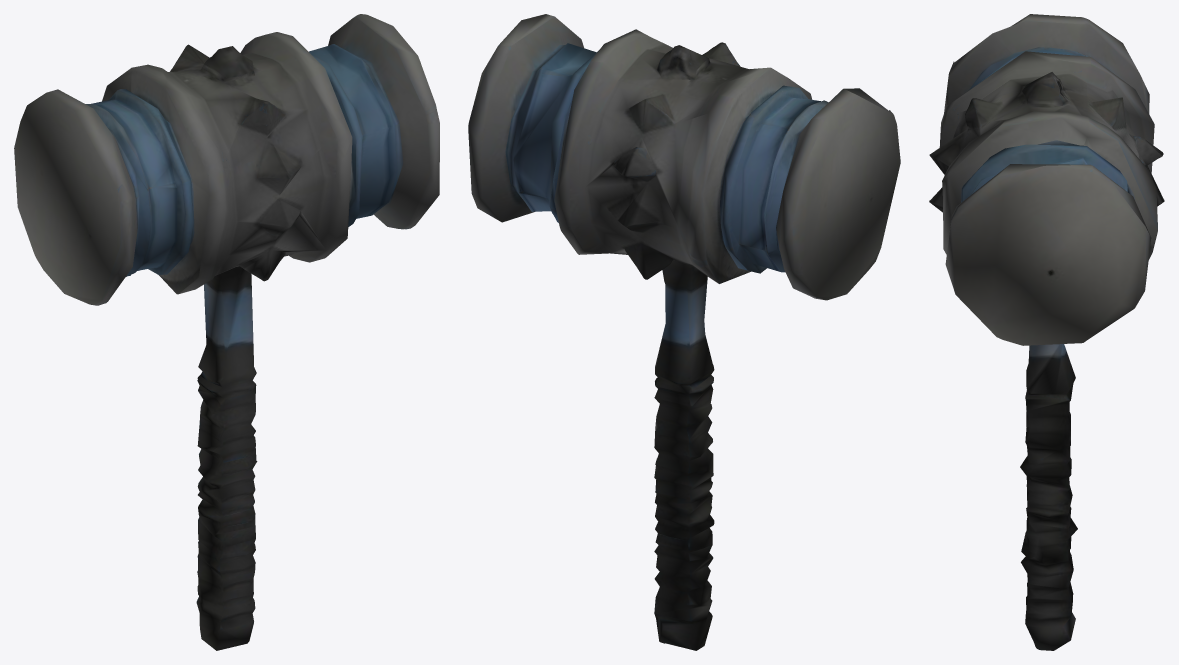
The model's file is 1478_mace.glb.
3 views of the same model, side by side, from view 1: azimuth 30°, elevation 25°; view 2: azimuth 150°, elevation 25°; view 3: azimuth 270°, elevation 25° (orthographic). The views are drawn at different scales.
Visible parts, largest first — view 1: Model; view 2: Model; view 3: Model.
Part boxes in pixels (x1,y1,x2,y2): Model: [14, 14, 439, 650]; Model: [468, 14, 900, 650]; Model: [929, 14, 1164, 650].
Bounding box in the file's own units: 0.5922 × 1 × 0.3754.
1 material, 1 textured.
